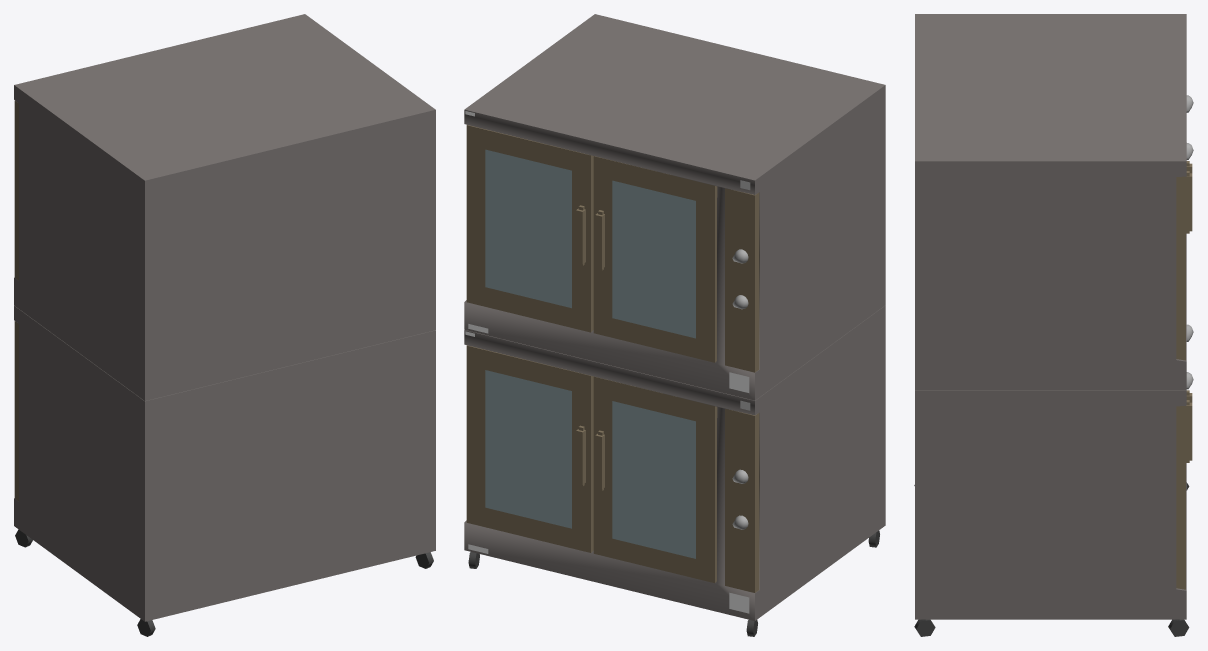
File: SM_Oven_01.fbx
3 views of the same model, side by side, from view 1: azimuth 30°, elevation 25°; view 2: azimuth 150°, elevation 25°; view 3: azimuth 270°, elevation 25° (orthographic). The views are drawn at different scales.
Visible parts, largest first — view 1: SM_Oven_01; view 2: SM_Oven_01; view 3: SM_Oven_01.
Boxes of the visible parts, x1,y1,x2,y2 form: SM_Oven_01: (14,14,435,636); SM_Oven_01: (464,14,885,636); SM_Oven_01: (914,14,1193,636).
Bounding box in the file's own units: 165 × 248 × 132.
3 materials, 3 textured.
